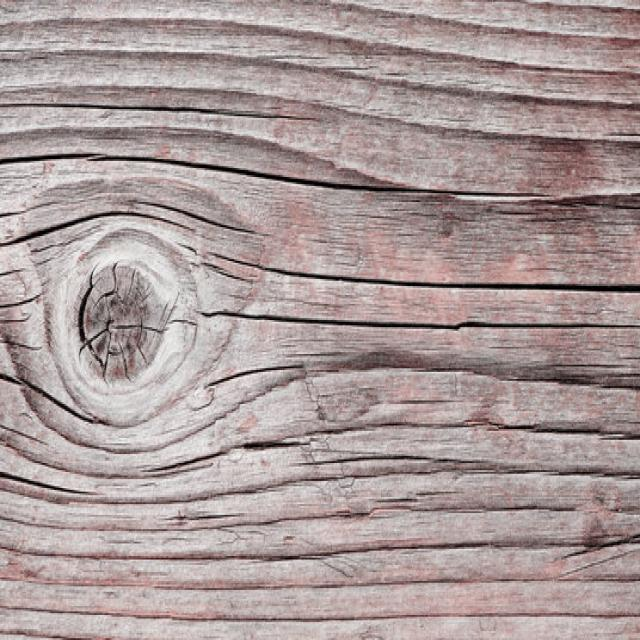have-wooden-eyes: (79, 262, 173, 384)
